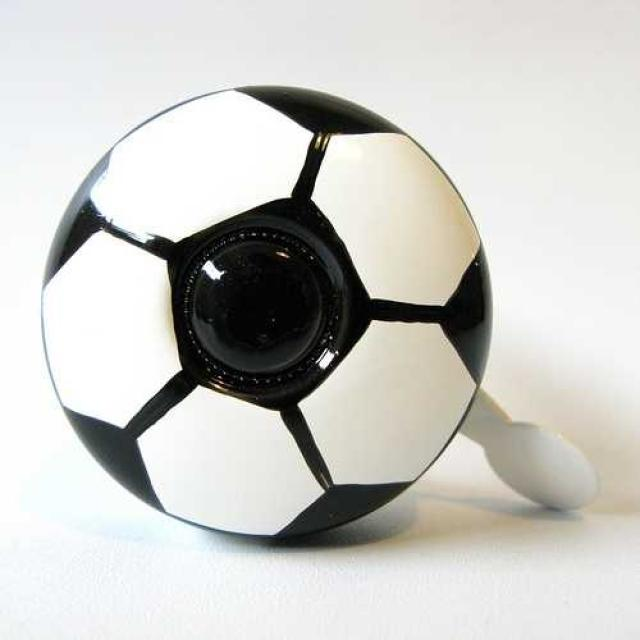ball: (41, 84, 492, 542)
